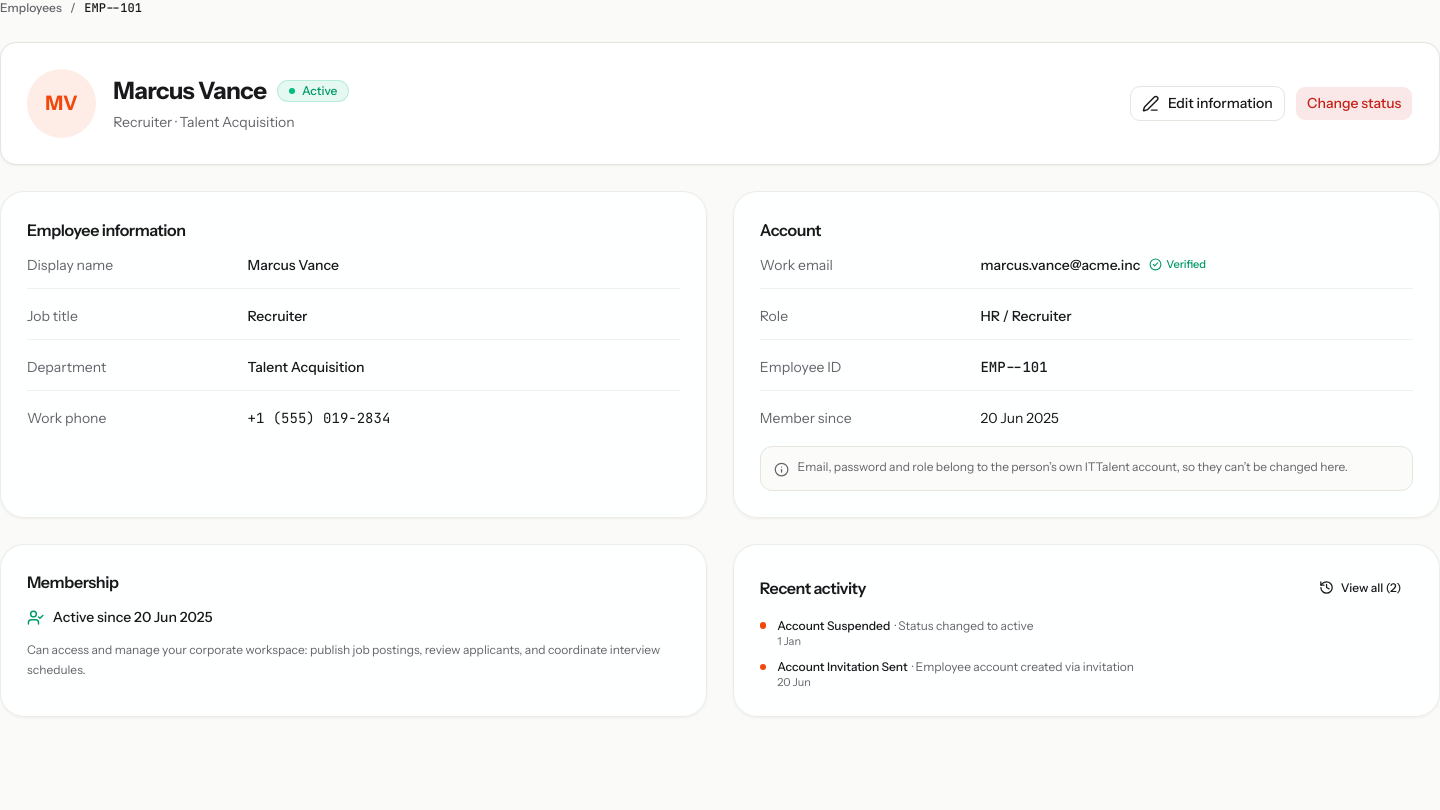
Scenario: Recruiter Employee Detail Page Tests › opens audit history modal and displays all history records
The width and height of the screenshot is (1440, 810).
Click the button "View all (2)" at (1360, 588), box [1307, 570, 1413, 605]
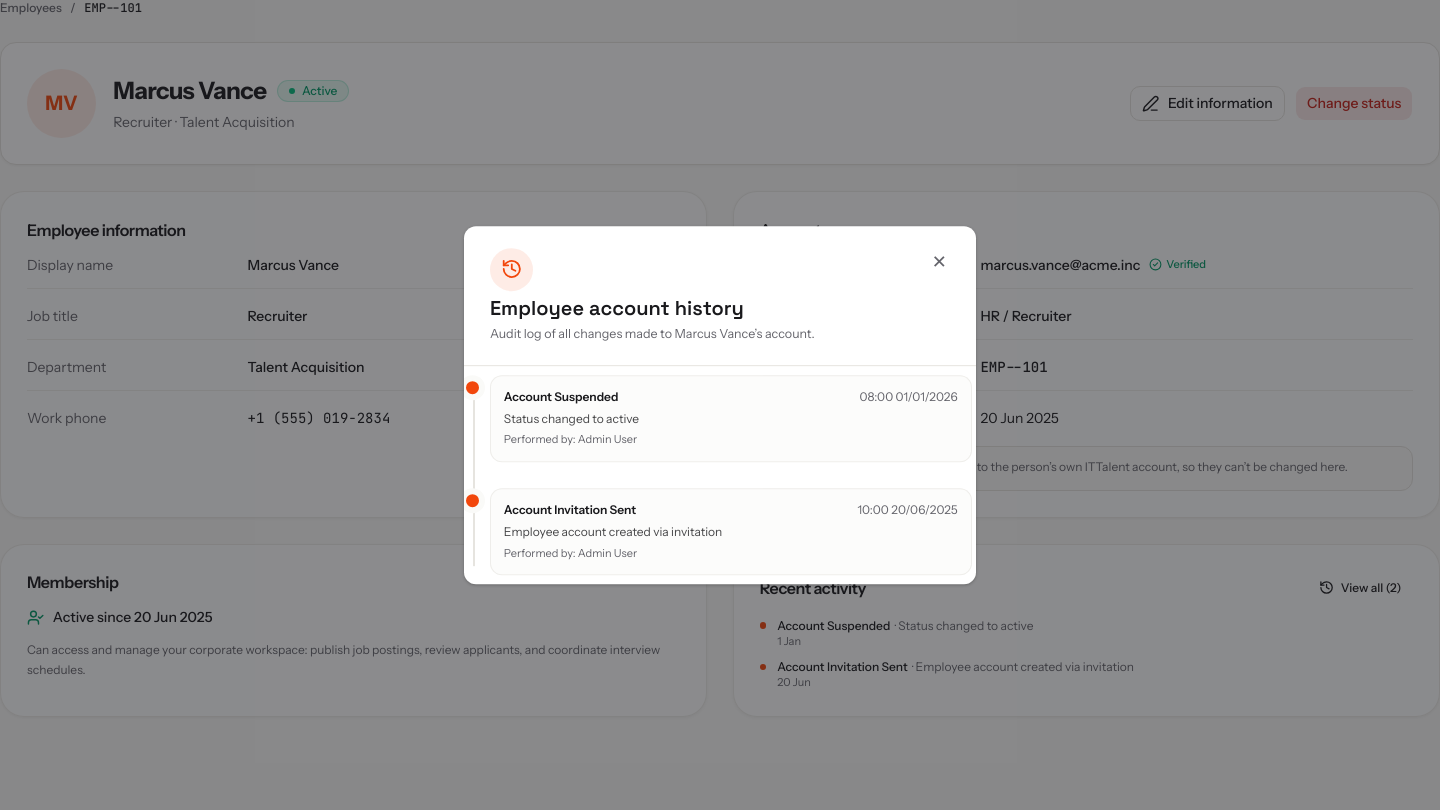
Expected: the text "Account invitation sent" below "1 Jan" is shown, [777, 659, 908, 674]
Now the heading "Employee account history" is shown, box [490, 295, 744, 321]
